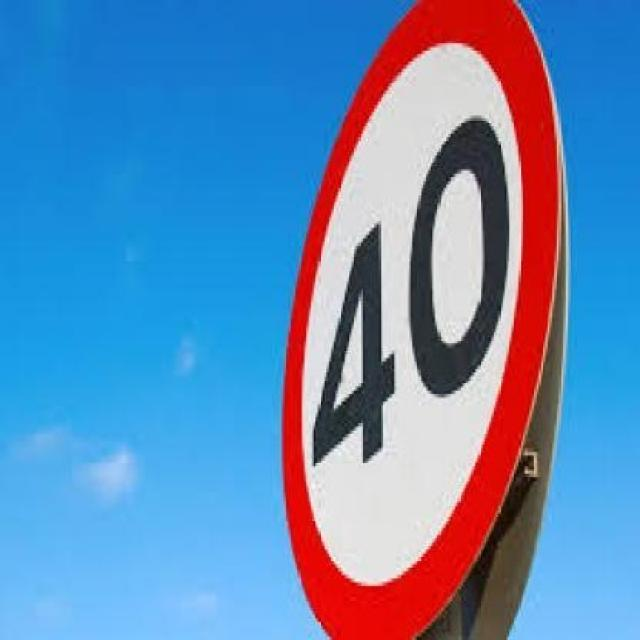forb_speed_over_40: (286, 2, 528, 619)
